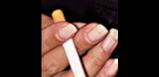Cigarette: (51, 9, 90, 77)
